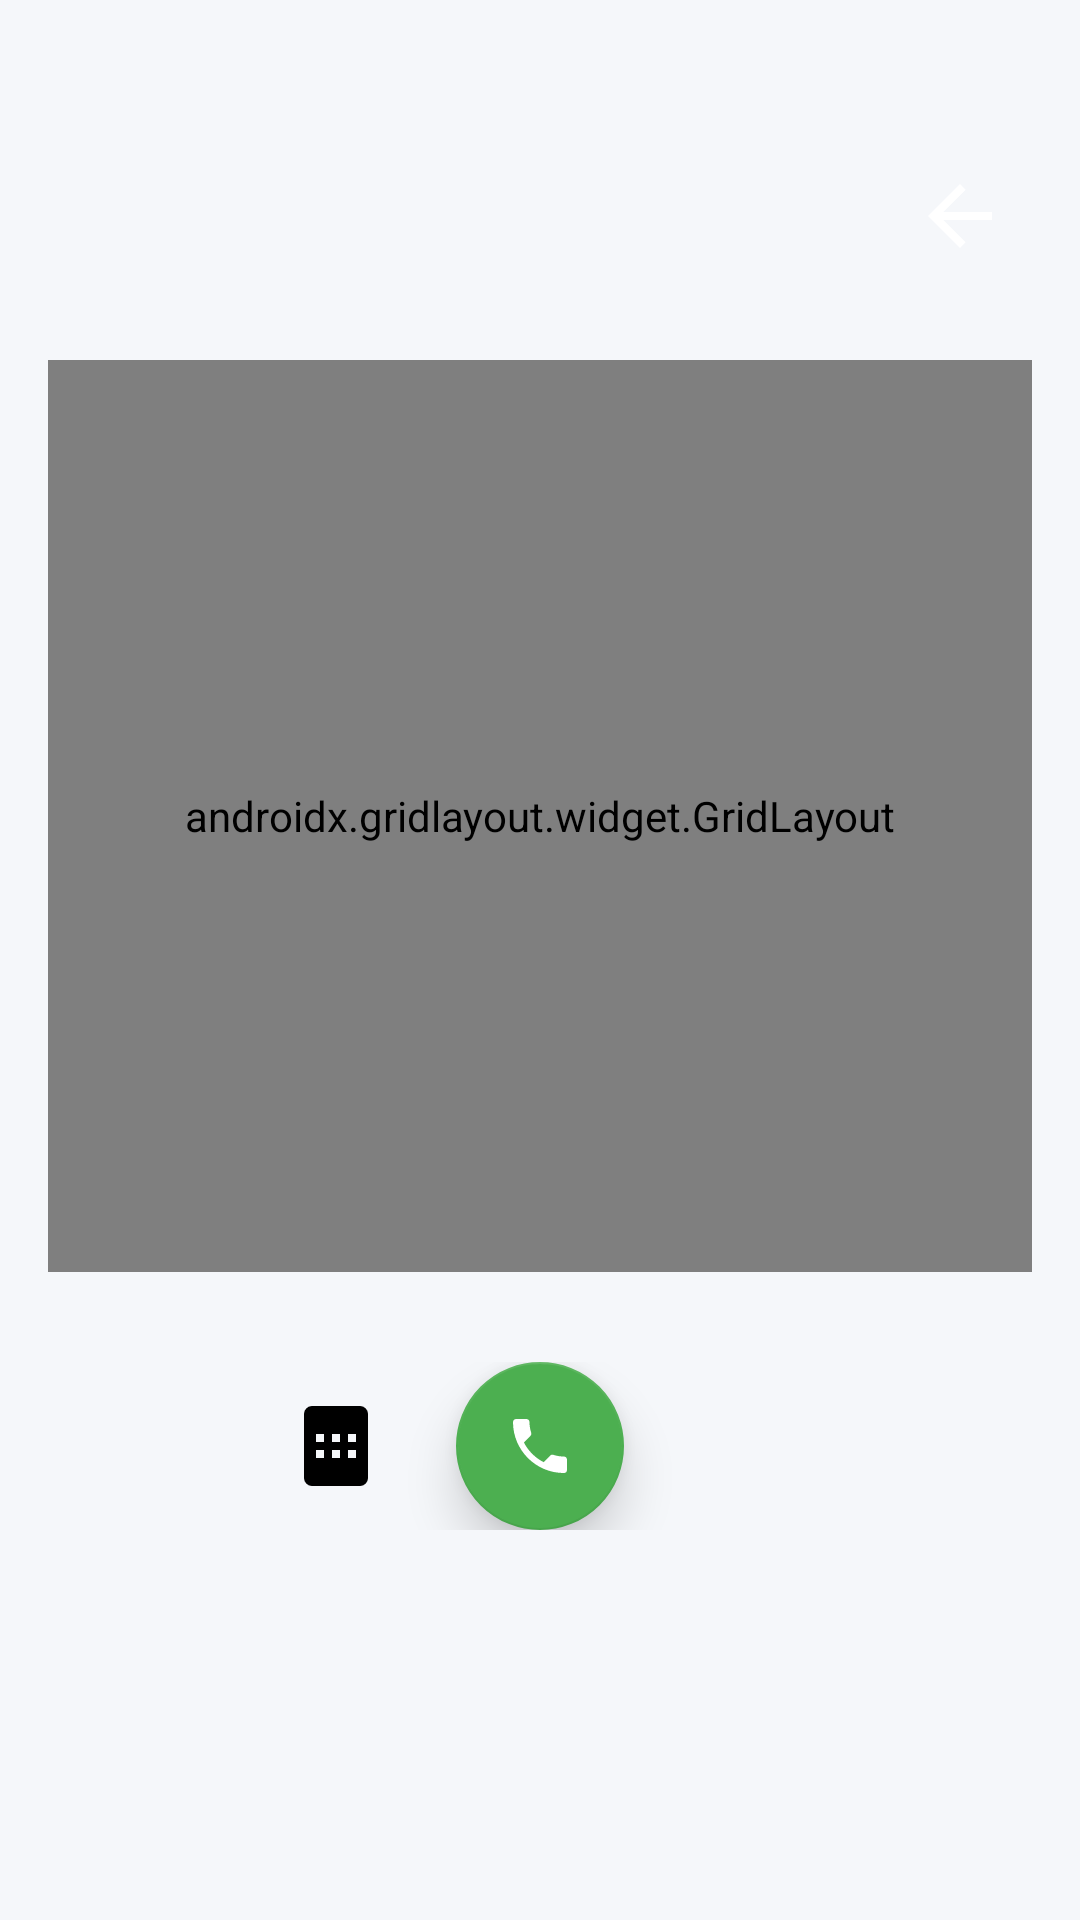

Where to tap for icons on this 1080 × 1920 app screen, as (x,y):
Make Call: (540,1446)
